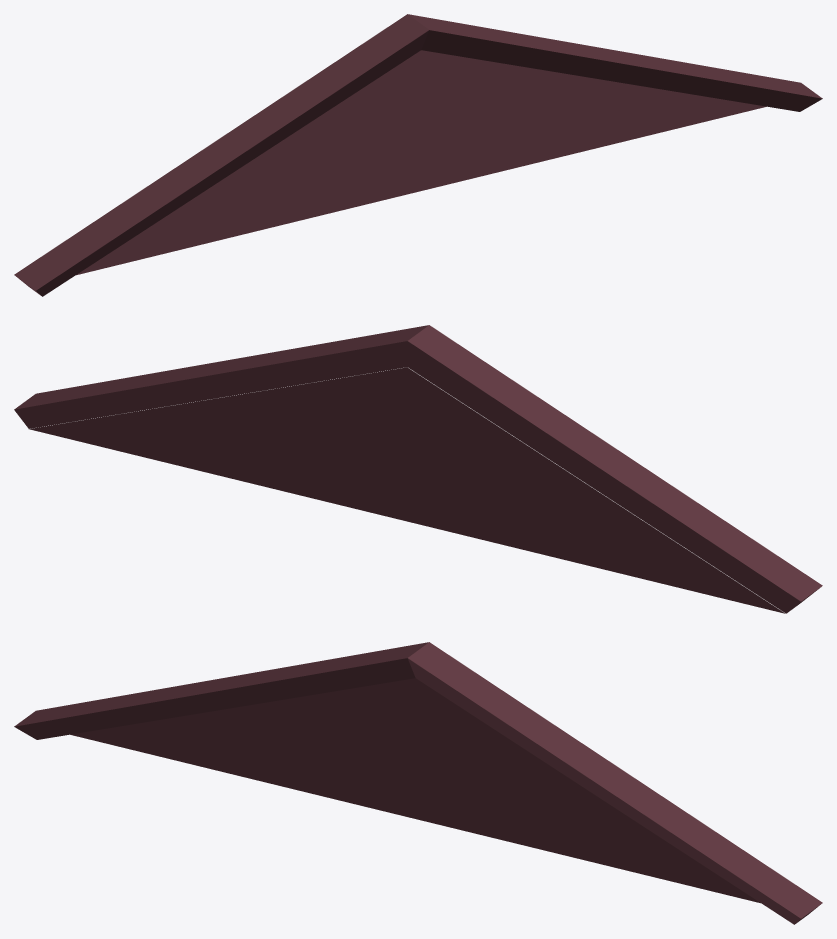
File: empire-wall-vertical-3m-empire.glb
The picture shows the model from 3 angles, top to bottom: view 1: azimuth 30°, elevation 25°; view 2: azimuth 150°, elevation 25°; view 3: azimuth 330°, elevation 25°; orthographic projection.
Parts seen in each view (by area): view 1: SM_Wall_Vertical_3m_Empire; view 2: SM_Wall_Vertical_3m_Empire; view 3: SM_Wall_Vertical_3m_Empire.
Boxes of the visible parts, <box> form: SM_Wall_Vertical_3m_Empire: <box>14,14,822,296</box>; SM_Wall_Vertical_3m_Empire: <box>14,325,822,613</box>; SM_Wall_Vertical_3m_Empire: <box>14,642,822,924</box>.
Bounding box in the file's own units: 3.12 × 0.6825 × 0.1517.
